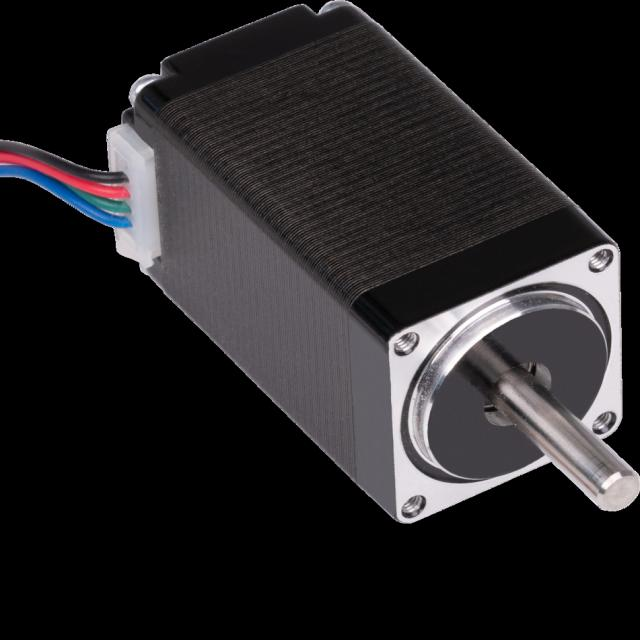motor: (106, 0, 640, 529)
